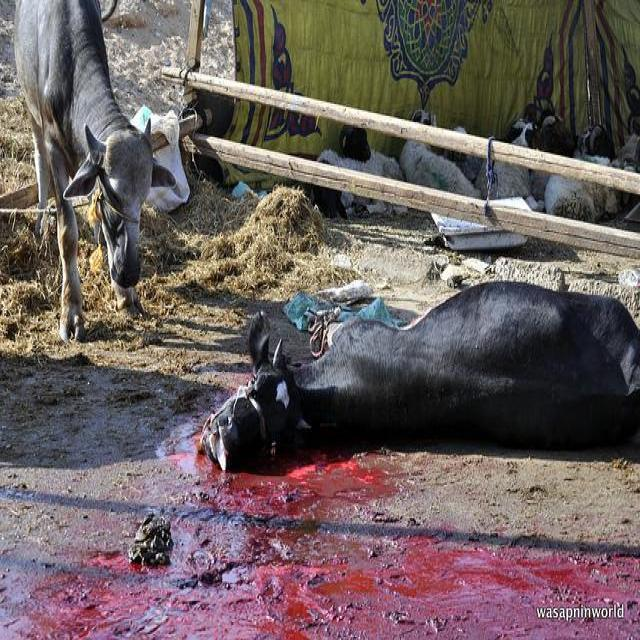Sheep: (311, 125, 410, 220), (398, 108, 482, 199), (545, 154, 639, 222), (474, 122, 545, 212), (529, 114, 575, 204)
